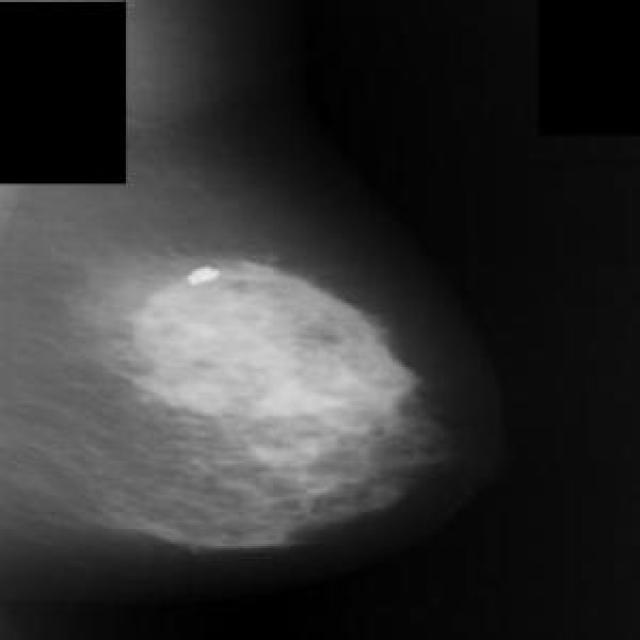tumor: (143, 251, 418, 438)
